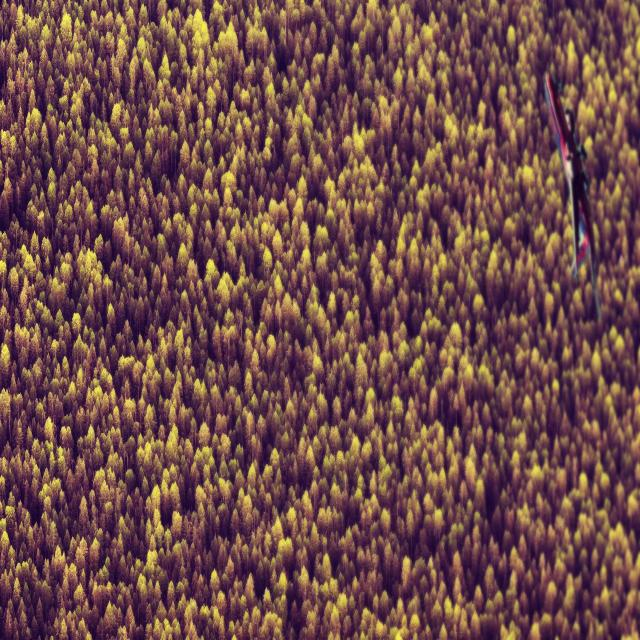airplane: (543, 71, 601, 320)
